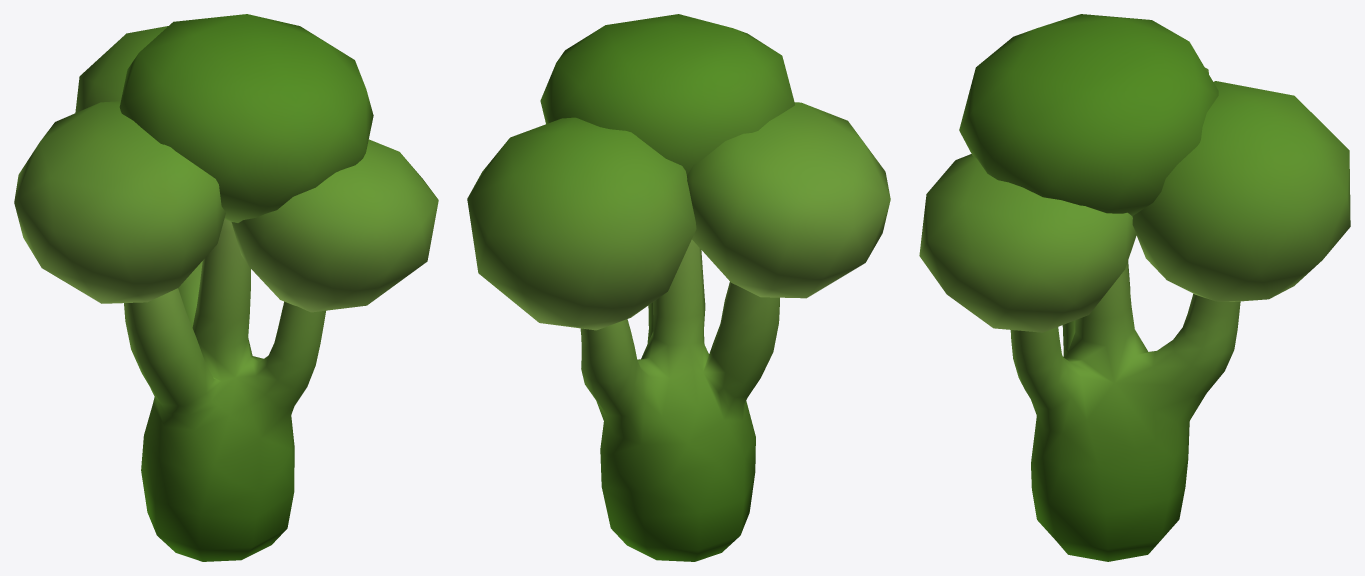
Rendered from Broccoli.fbx.
3 renders of one model, left to right at view 1: azimuth 30°, elevation 25°; view 2: azimuth 150°, elevation 25°; view 3: azimuth 270°, elevation 25°, orthographic. The views are drawn at different scales.
Visible parts, largest first — view 1: Base, Icosphere.010, Icosphere.008, Icosphere.009, Icosphere.011; view 2: Base, Icosphere.011, Icosphere.008, Icosphere.010; view 3: Base, Icosphere.010, Icosphere.011, Icosphere.009.
Boxes of the visible parts, x1=… form: Base: x1=124, y1=219, x2=325, y2=561; Icosphere.010: x1=119, y1=14, x2=373, y2=222; Icosphere.008: x1=14, y1=101, x2=225, y2=303; Icosphere.009: x1=231, y1=139, x2=438, y2=312; Icosphere.011: x1=75, y1=26, x2=167, y2=112; Base: x1=580, y1=239, x2=779, y2=561; Icosphere.011: x1=467, y1=117, x2=696, y2=330; Icosphere.008: x1=687, y1=102, x2=890, y2=298; Icosphere.010: x1=540, y1=14, x2=794, y2=175; Base: x1=1010, y1=260, x2=1240, y2=561; Icosphere.010: x1=959, y1=14, x2=1218, y2=215; Icosphere.011: x1=1132, y1=81, x2=1350, y2=301; Icosphere.009: x1=919, y1=154, x2=1136, y2=332.
Size of the model in its own units: 89.32 by 123 by 92.01.
